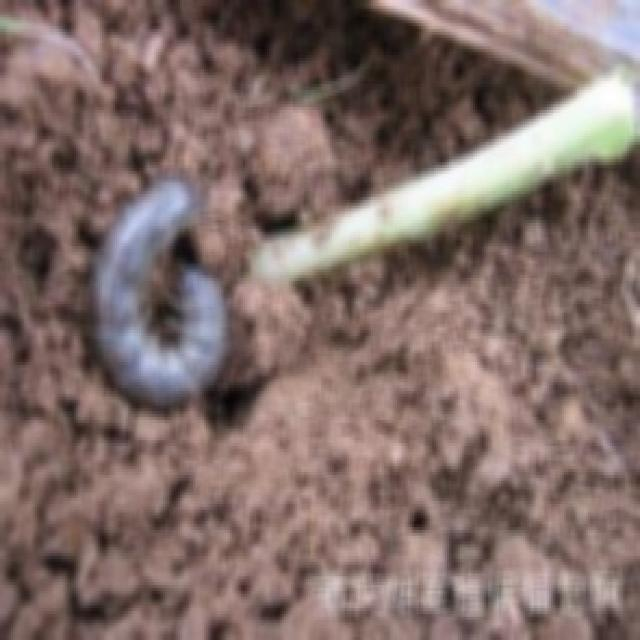black cutworm: (84, 184, 243, 404)
